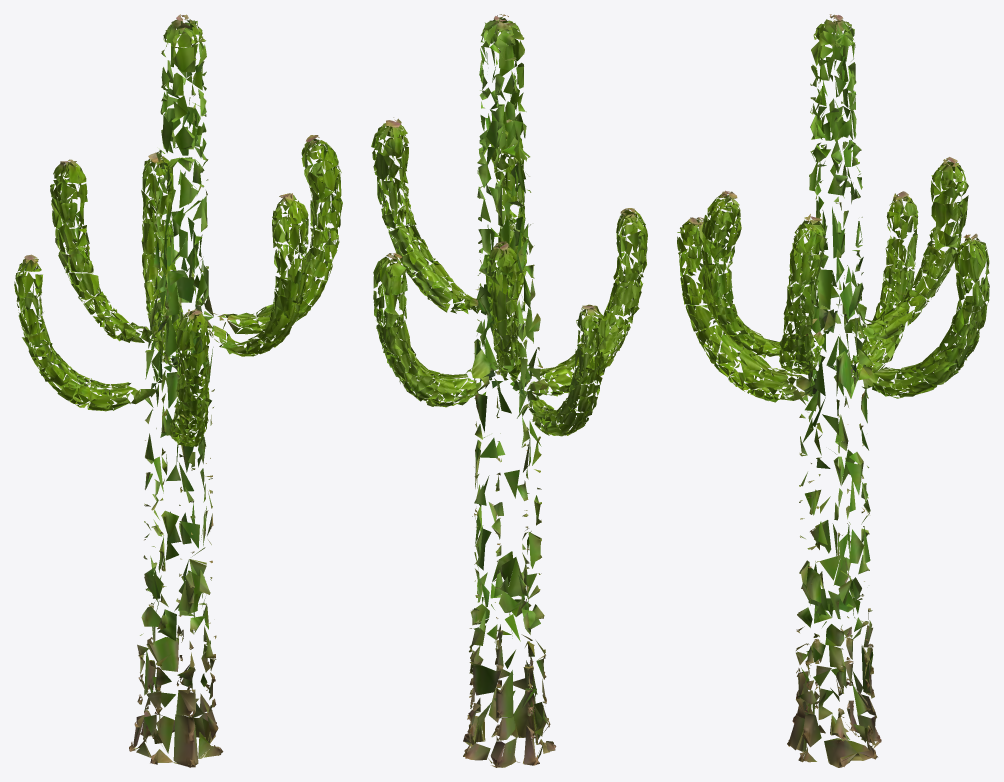
Rendered from cactus.glb.
3 renders of one model, left to right at view 1: azimuth 30°, elevation 25°; view 2: azimuth 150°, elevation 25°; view 3: azimuth 270°, elevation 25°, orthographic.
Visible parts, largest first — view 1: Mesh_0; view 2: Mesh_0; view 3: Mesh_0.
Boxes of the visible parts, x1,y1,x2,y2 form: Mesh_0: [14, 14, 342, 767]; Mesh_0: [371, 14, 647, 767]; Mesh_0: [677, 14, 989, 767].
Size of the model in its own units: 0.3925 by 1 by 0.3842.
1 material, 1 textured.
